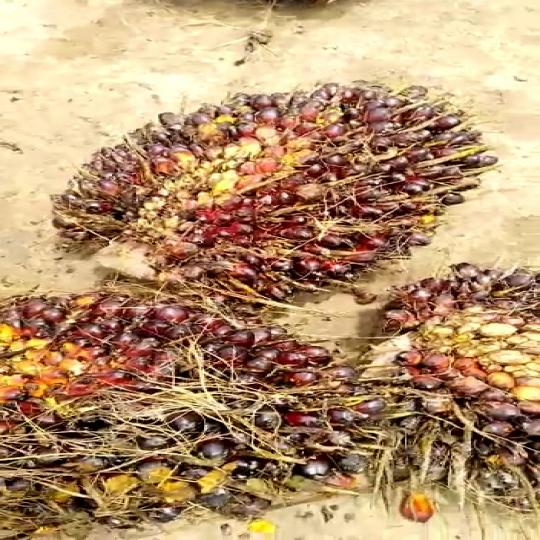kurang masak: (0, 290, 405, 539), (50, 77, 485, 308)
